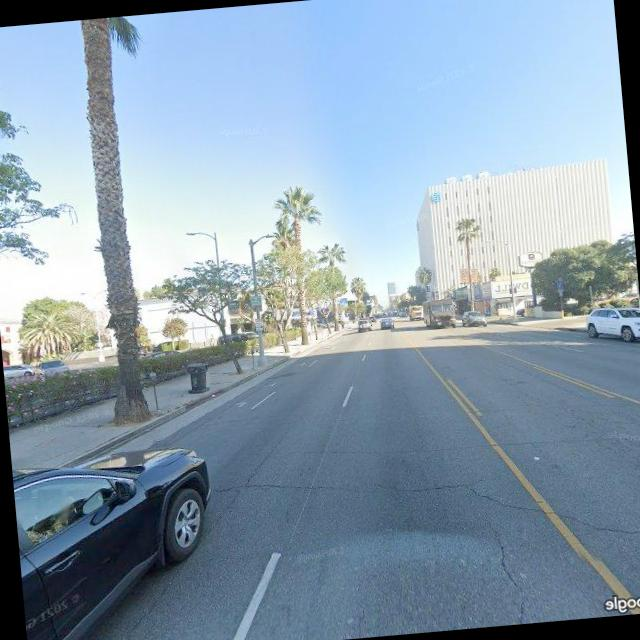crack: (110, 430, 295, 640), (384, 453, 640, 559), (290, 416, 624, 468), (485, 512, 535, 623), (210, 468, 350, 501)
